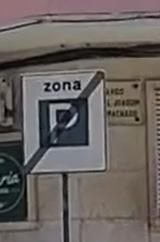fim de zona de estacionamento autorizado: (15, 67, 111, 176)
